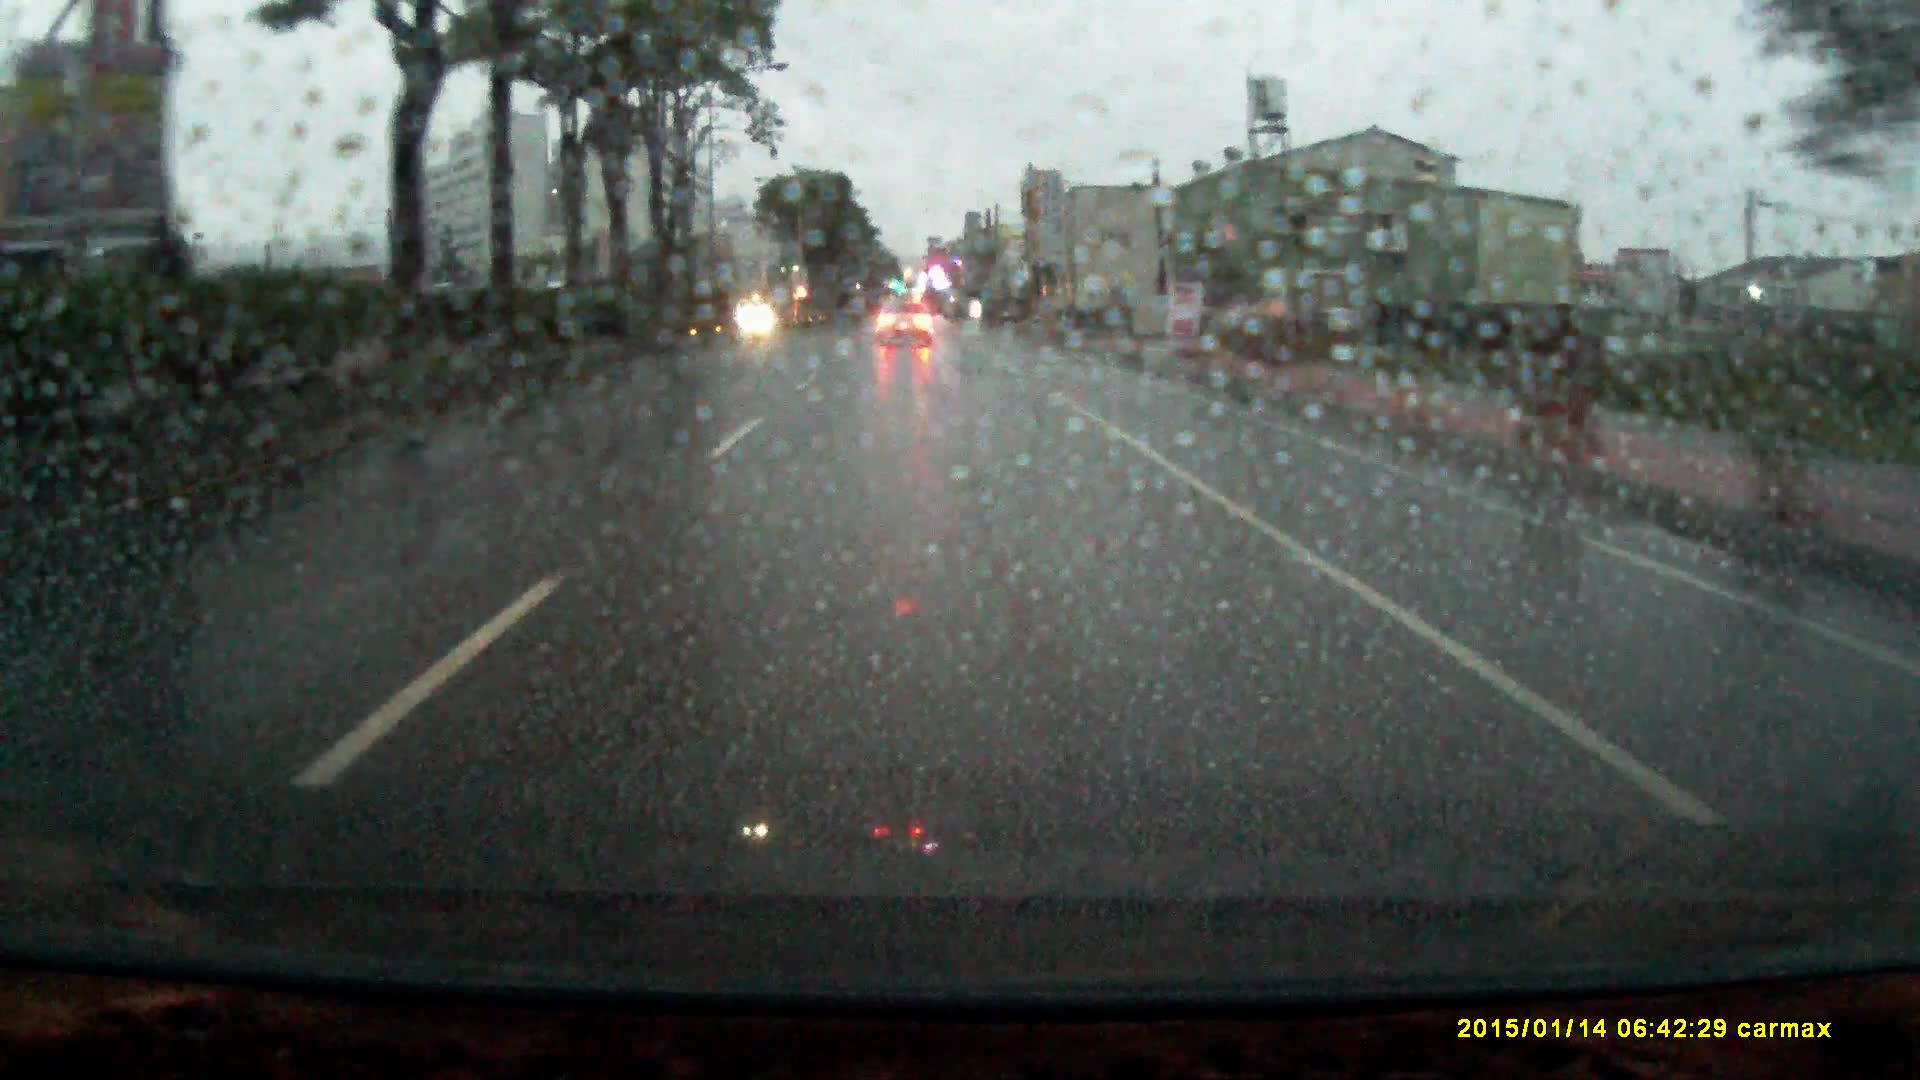vehicle: (876, 302, 935, 348)
